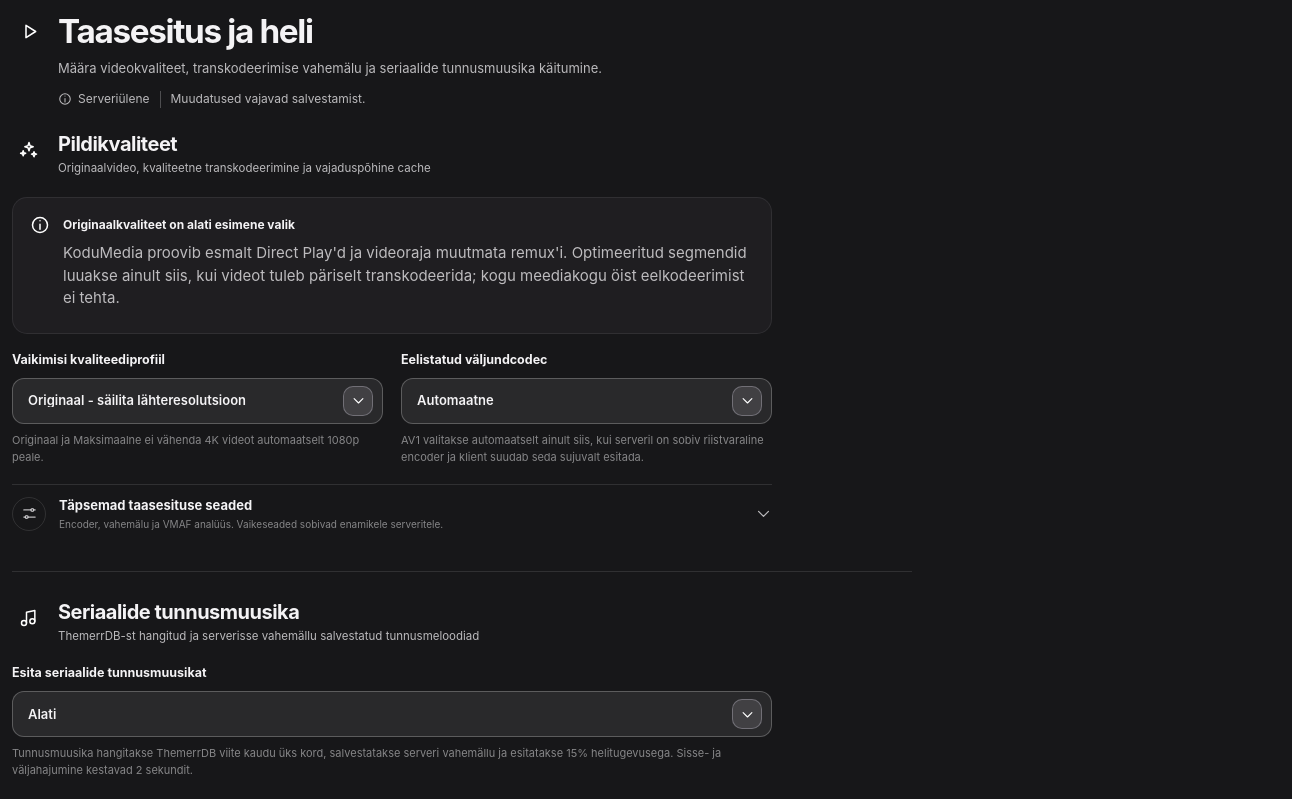
Test: SystemStatus › shows the shared save bar only for unsaved changes and can restore the saved values
(page scrolled)
Check: the element "Salvestamata muudatused" is not shown
Select "Tasakaalus - kuni 1080p" in the dropdown with id "system-quality-profile": (198, 401) [12, 378, 383, 424]
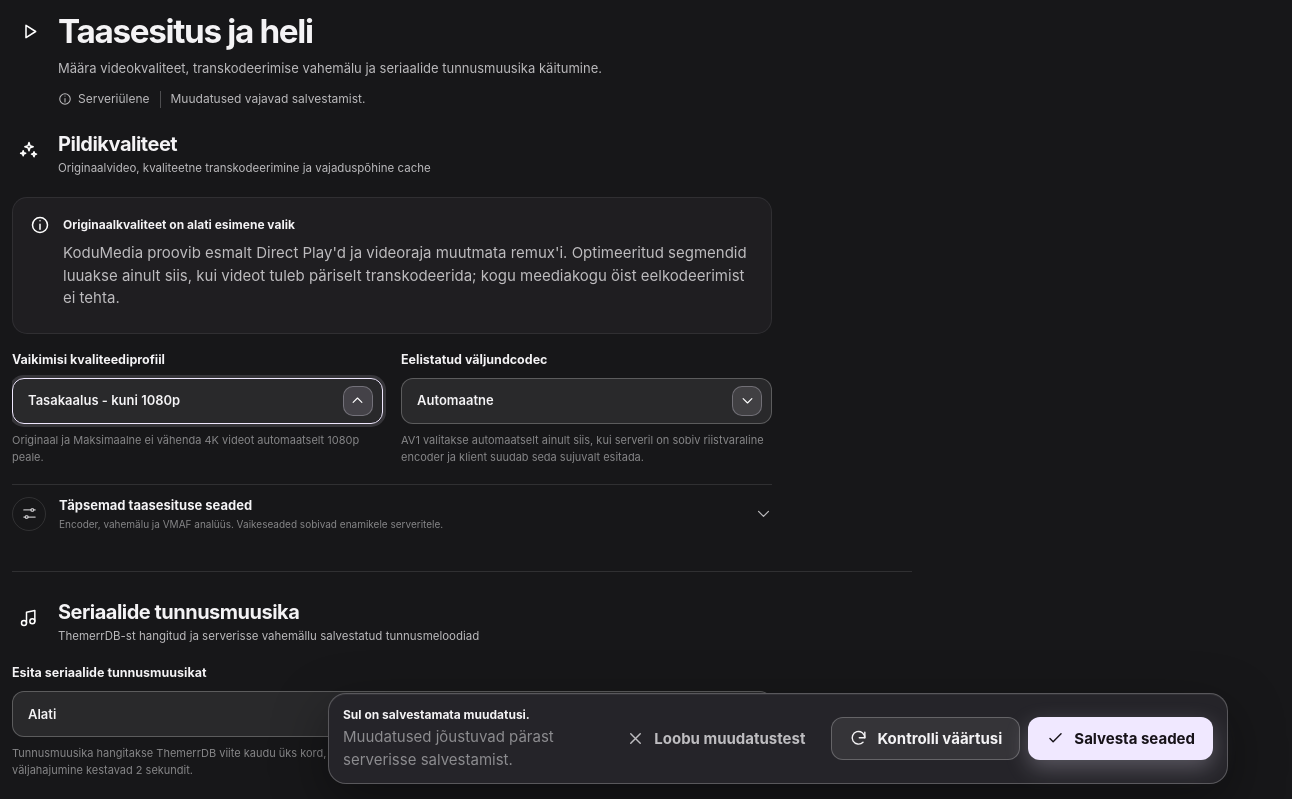
Check: the button "Loobu muudatustest" is shown
Check: the button "Kontrolli väärtusi" is shown, box [831, 717, 1020, 760]
Check: the button "Salvesta seaded" is shown, box [1028, 717, 1213, 760]
Click the button "Loobu muudatustest": (716, 738) [608, 717, 824, 760]
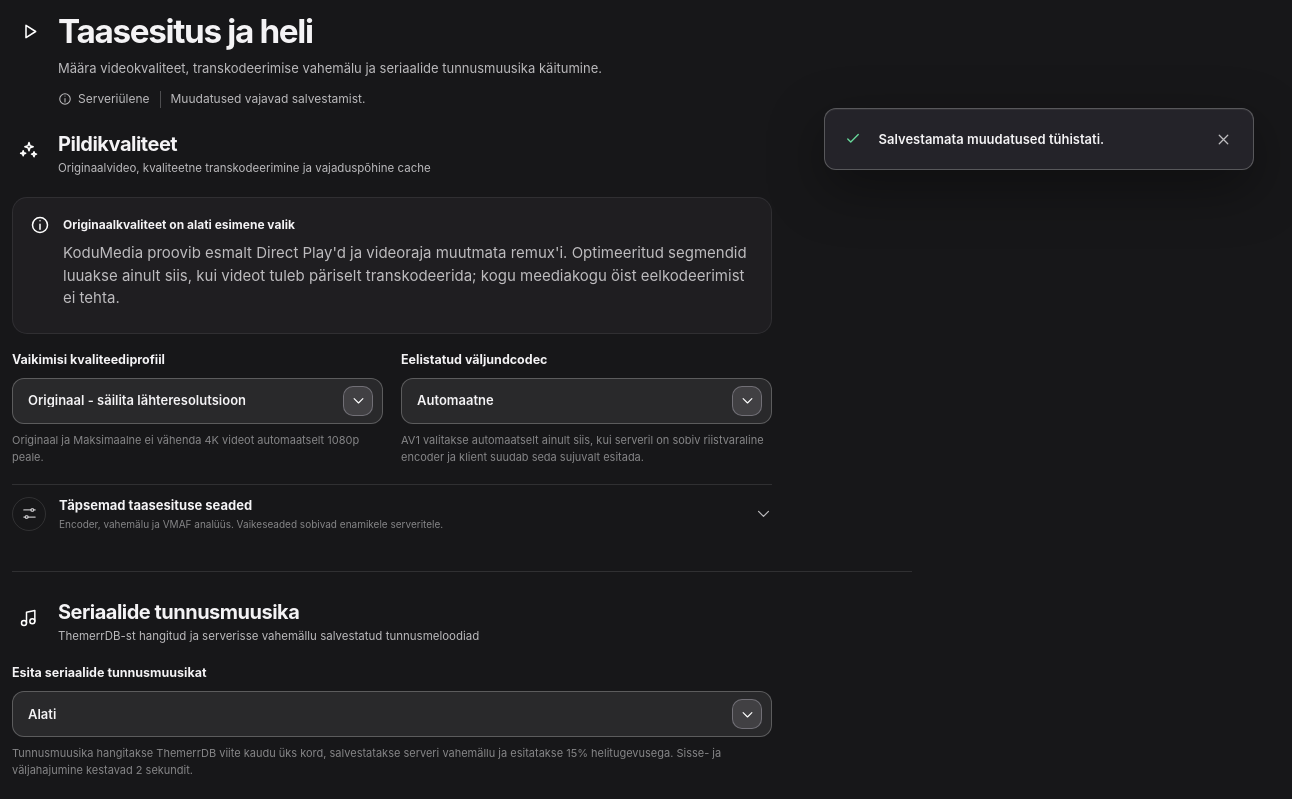
Check: the text "Salvestamata muudatused tühistati." is shown, box [879, 131, 1104, 147]
